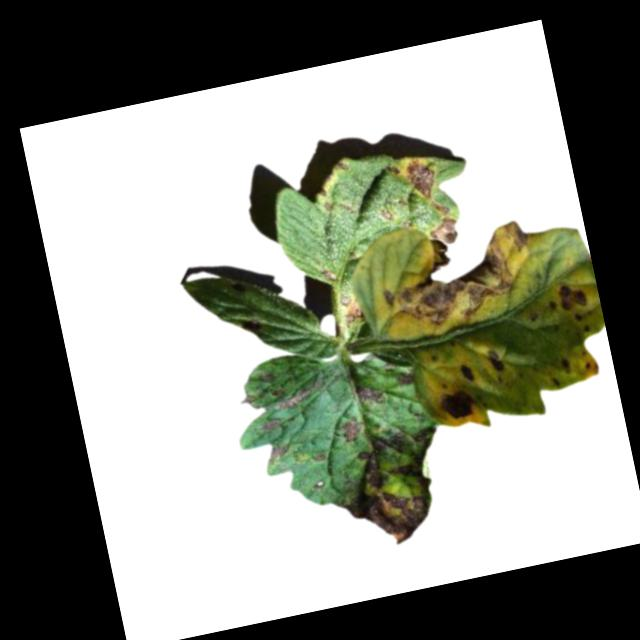Early_blight: (377, 222, 541, 337), (336, 426, 456, 557), (268, 375, 327, 416), (426, 217, 466, 275), (404, 156, 439, 204), (438, 389, 482, 427), (558, 281, 592, 319), (352, 381, 389, 411), (340, 292, 364, 327), (340, 415, 367, 444), (264, 441, 291, 467), (487, 347, 507, 375), (458, 360, 478, 388), (433, 198, 453, 220), (262, 417, 285, 434), (310, 450, 331, 467), (318, 268, 340, 283), (559, 356, 575, 375), (379, 207, 394, 223), (322, 199, 336, 216), (336, 160, 350, 175)
